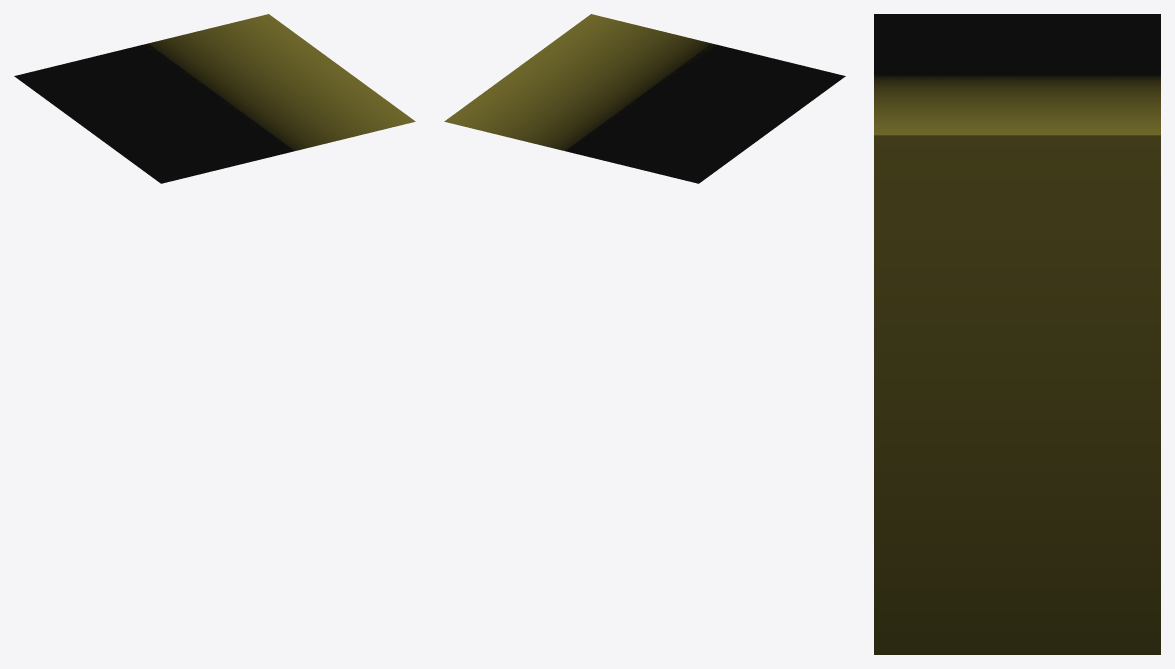
3 renders of one model, left to right at view 1: azimuth 30°, elevation 25°; view 2: azimuth 150°, elevation 25°; view 3: azimuth 270°, elevation 25°, orthographic. The views are drawn at different scales.
Bounding box in the file's own units: 1 × 2 × 1.
1 material, 1 textured.
